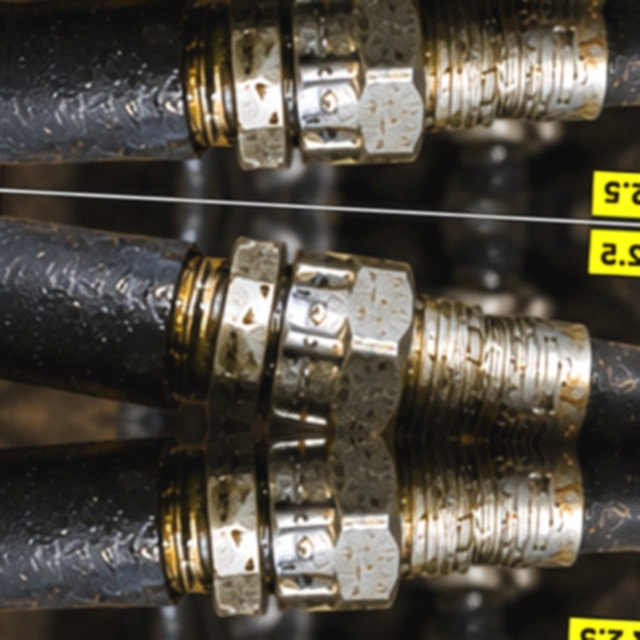hydraulic_oil_leak: (223, 204, 441, 407)
